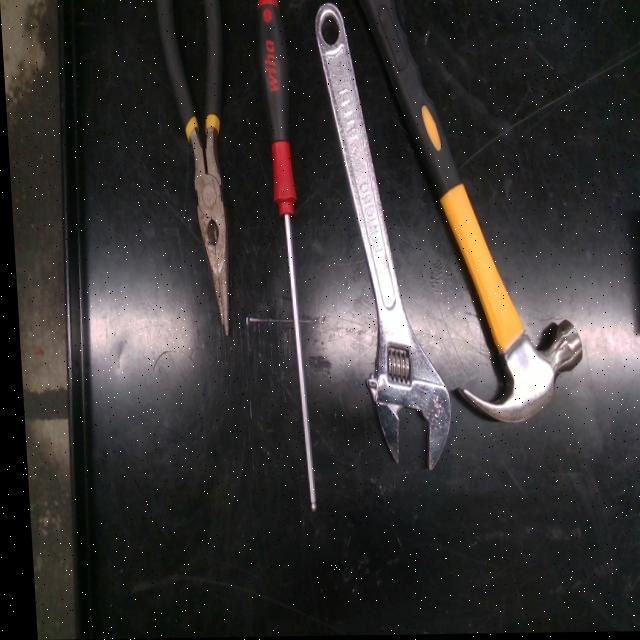Screwdriver: (257, 0, 310, 511)
